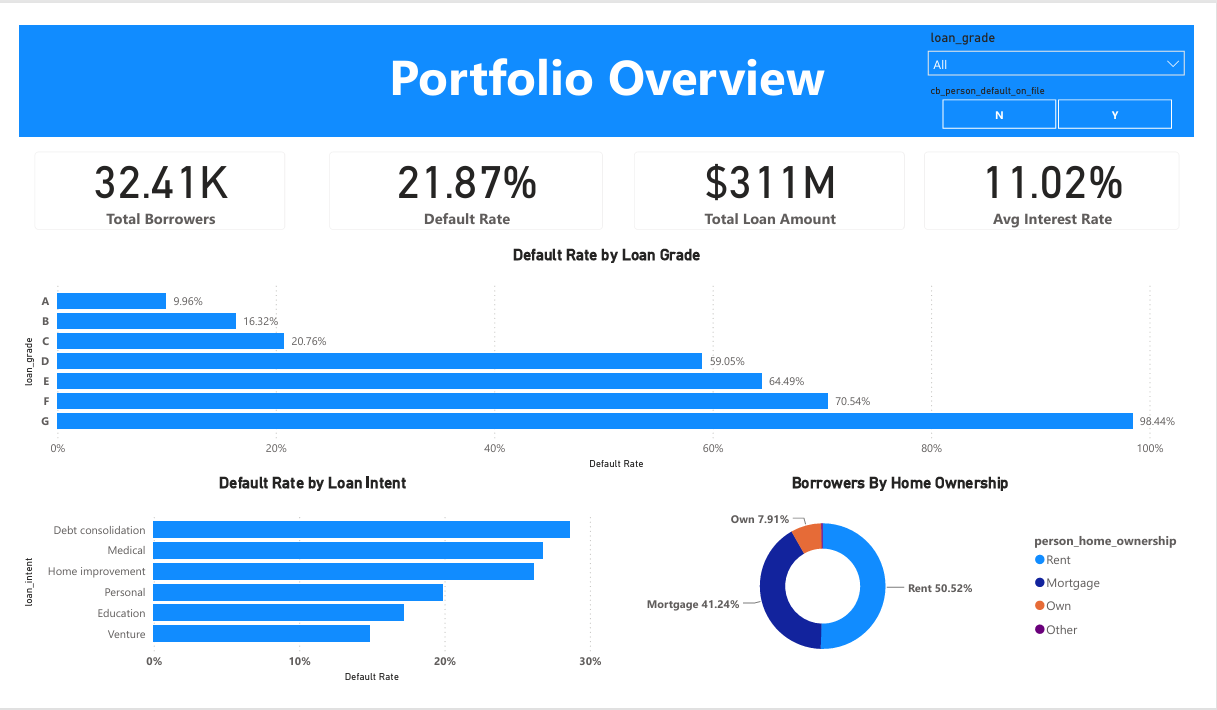

The dashboard page shown, as its layout file describes it:
{"tool":"powerbi","page":{"name":"Portfolio Overview","canvas":[1280,720],"ordinal":0},"visuals":[{"type":"cardVisual","fields":{"Data":["fact.Total Barrowers"]},"box":[0,121.1,307.3,118.9],"z":0},{"type":"cardVisual","fields":{"Data":["fact.Total Loan Amount"]},"box":[652.7,121.1,329.7,118.9],"z":1000},{"type":"cardVisual","fields":{"Data":["fact.Avg Int Rate"]},"box":[969,121.1,311.8,118.9],"z":2000},{"type":"cardVisual","fields":{"Data":["fact.Default Rate"]},"box":[320.7,121.1,332,118.9],"z":3000},{"type":"clusteredBarChart","title":"Default Rate by Loan Intent","fields":{"Category":["dim loan.loan_intent"],"Y":["fact.Default Rate"]},"box":[0,487.5,640,232.5],"z":4000},{"type":"donutChart","title":"Borrowers By Home Ownership","fields":{"Y":["fact.Total Barrowers"],"Category":["dim person.person_home_ownership"]},"box":[640,487.5,640,215],"z":5000},{"type":"clusteredBarChart","title":"Default Rate by Loan Grade","fields":{"Category":["dim loan.loan_grade"],"Y":["fact.Default Rate"]},"box":[0,240,1280,247.5],"z":6000},{"type":"textbox","box":[0,0,1280.7,121.1],"z":7000},{"type":"slicer","fields":{"Values":["dim loan.loan_grade"]},"box":[980,0,300,90],"z":8000},{"type":"slicer","fields":{"Values":["dim person.cb_person_default_on_file"]},"box":[980,60,300,60],"z":9000}]}

Visuals, with their boxes on the page's 1280x720 design canvas (x1, y1, x2, y2). These are canvas units, not pixel positions in the 1217x710 screenshot, which may show the page scaled, cropped or inside an application window:
cardVisual - fact.Total Barrowers: (0, 121, 307, 240)
cardVisual - fact.Total Loan Amount: (653, 121, 982, 240)
cardVisual - fact.Avg Int Rate: (969, 121, 1281, 240)
cardVisual - fact.Default Rate: (321, 121, 653, 240)
"Default Rate by Loan Intent" clusteredBarChart: (0, 488, 640, 720)
"Borrowers By Home Ownership" donutChart: (640, 488, 1280, 702)
"Default Rate by Loan Grade" clusteredBarChart: (0, 240, 1280, 488)
textbox: (0, 0, 1281, 121)
slicer - dim loan.loan_grade: (980, 0, 1280, 90)
slicer - dim person.cb_person_default_on_file: (980, 60, 1280, 120)
